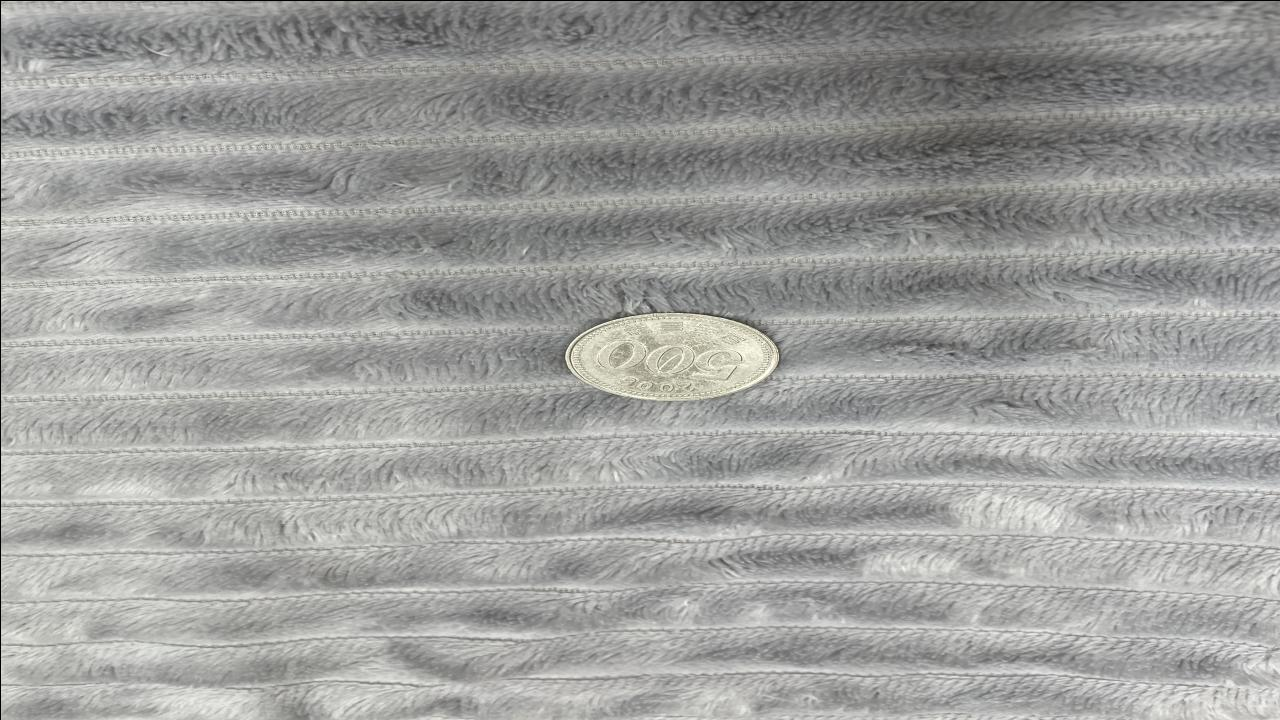coin: (560, 311, 778, 399)
